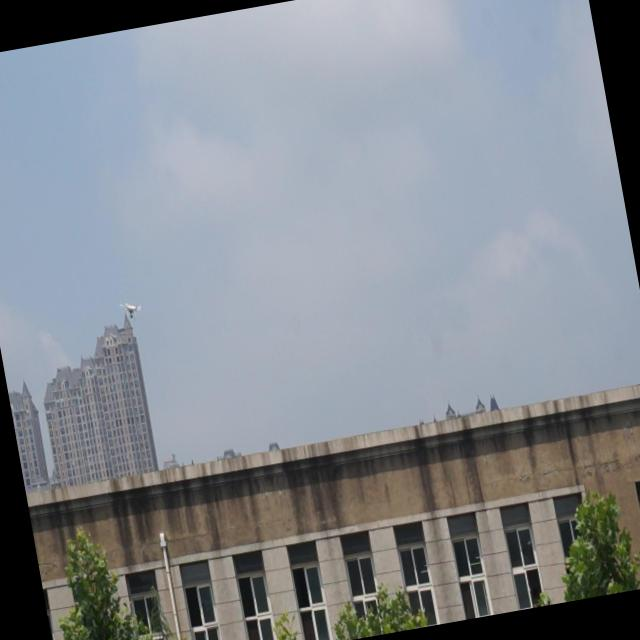drone: (117, 296, 144, 324)
